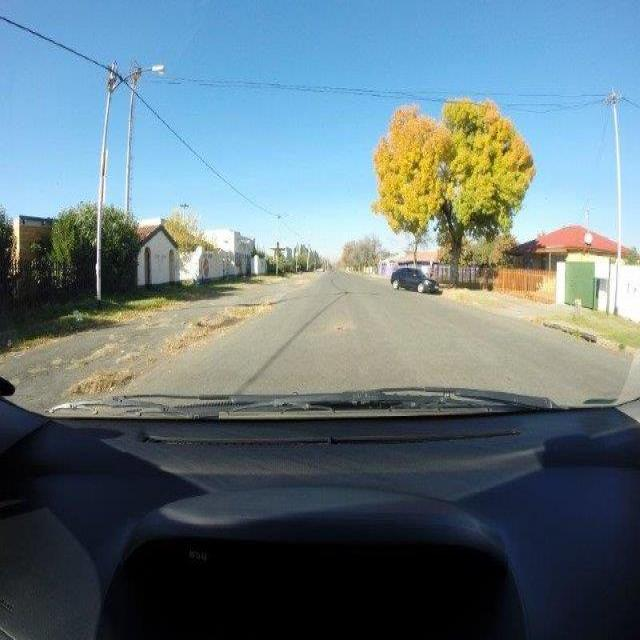lubang: (323, 317, 354, 336)
